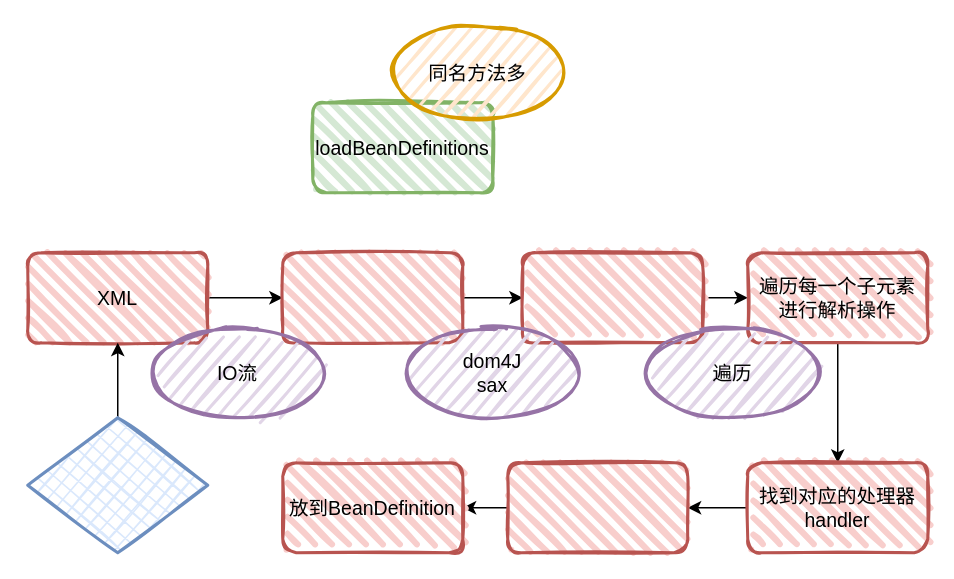
The diagram is 954 pixels wide and 579 high, and some of its shapes have lost their labels. The shapes that lost their labels are listed below. From the top down, each one's centre as x and y in pixels, then its label:
At point (372, 297): "读取".
At point (612, 297): "装换成document".
At point (117, 485): "<bean> <context> <aop> <tx>".
At point (597, 507): "不同元素解析".
